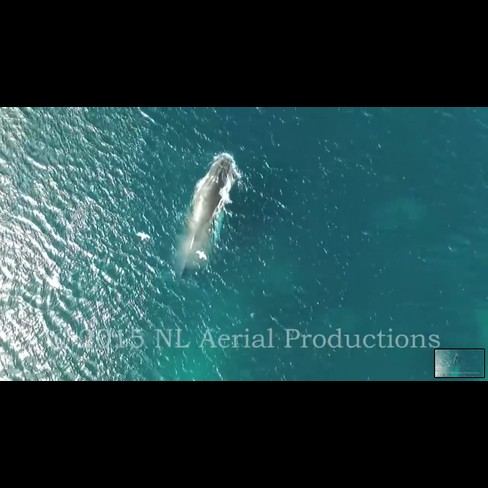hump: (167, 147, 243, 298)
